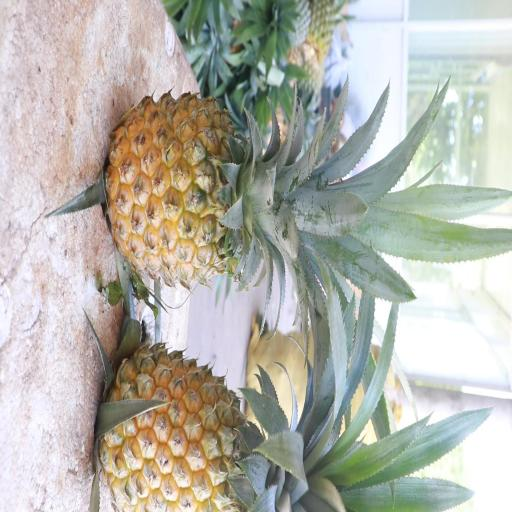Pineapple - v8 v1: (102, 86, 332, 294), (96, 336, 347, 512)
